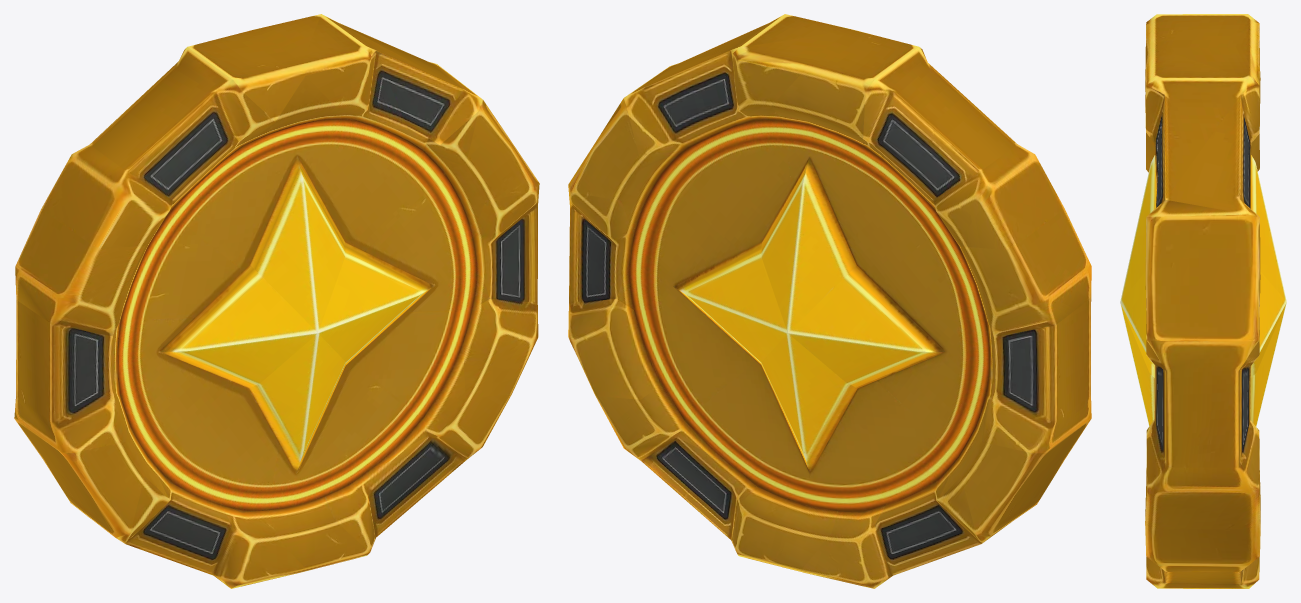
Rendered from coin.glb.
3 views of the same model, side by side, from view 1: azimuth 30°, elevation 25°; view 2: azimuth 150°, elevation 25°; view 3: azimuth 270°, elevation 25° (orthographic).
Visible parts, largest first — view 1: mesh_node; view 2: mesh_node; view 3: mesh_node.
Boxes of the visible parts, box(x1,y1,x2,y2) form: mesh_node: box(14, 14, 539, 588); mesh_node: box(568, 14, 1091, 588); mesh_node: box(1120, 14, 1286, 588).
Bounding box in the file's own units: 1 × 1 × 0.2969.
1 material, 1 textured.
